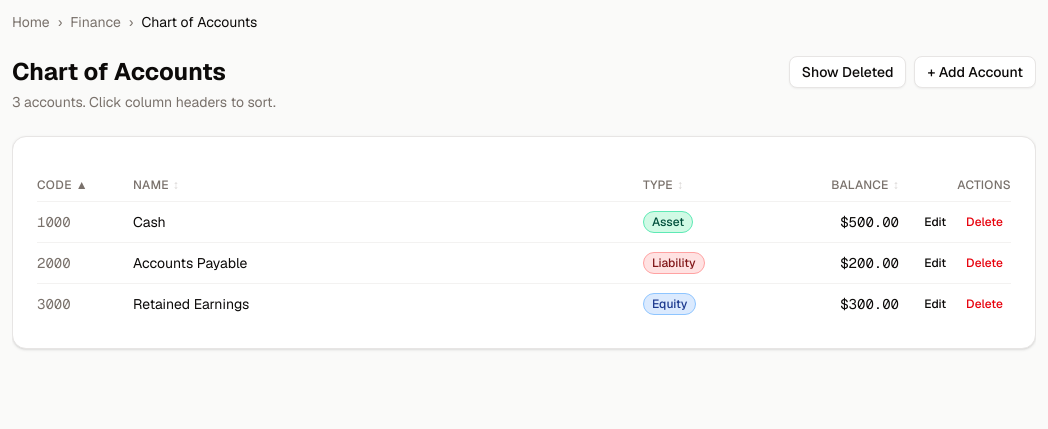
ChartOfAccountsPage › shows API error on delete failure
Expected: the link "Cash" is shown, 133,213 -> 166,231
Note: Click Delete then Yes
Click the button "Delete" in the row of "1000".
click(985, 222)  # box 958,210 -> 1011,234
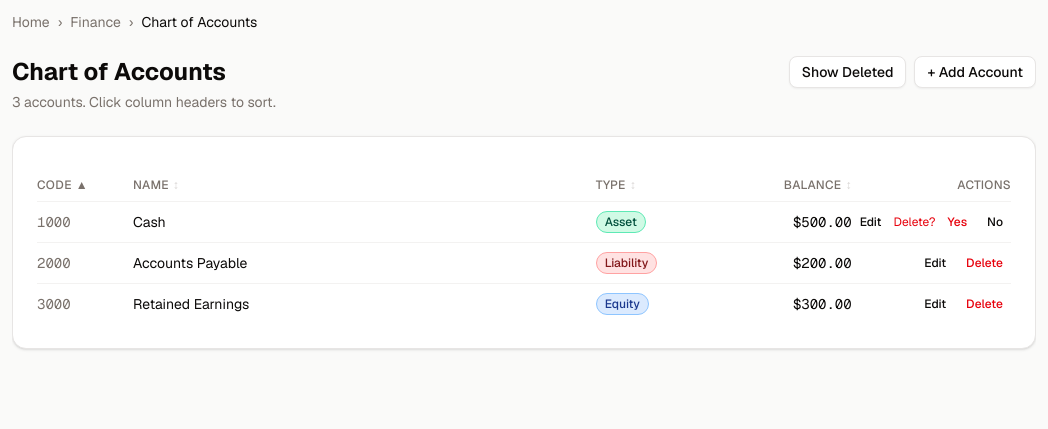
Click the button "Yes".
click(957, 222)  # box 940,210 -> 975,234
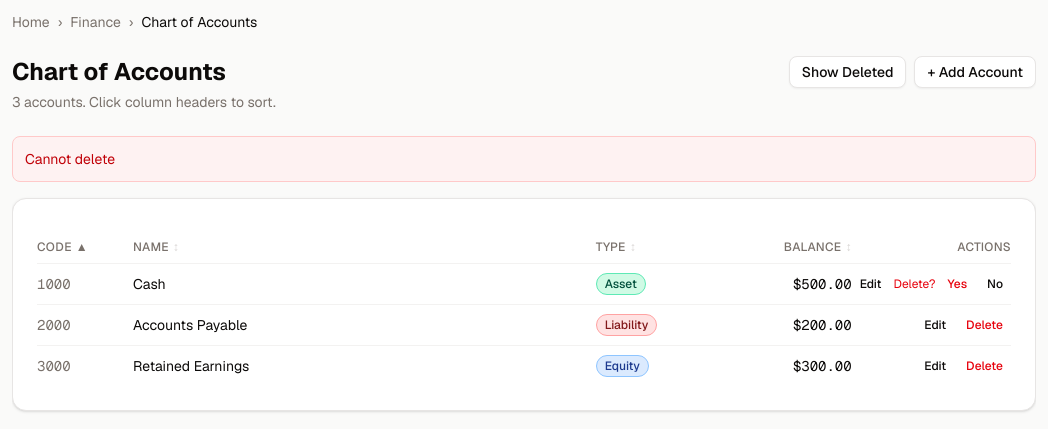
Now the text "Cannot delete" is shown, box 12,136 -> 1036,182
